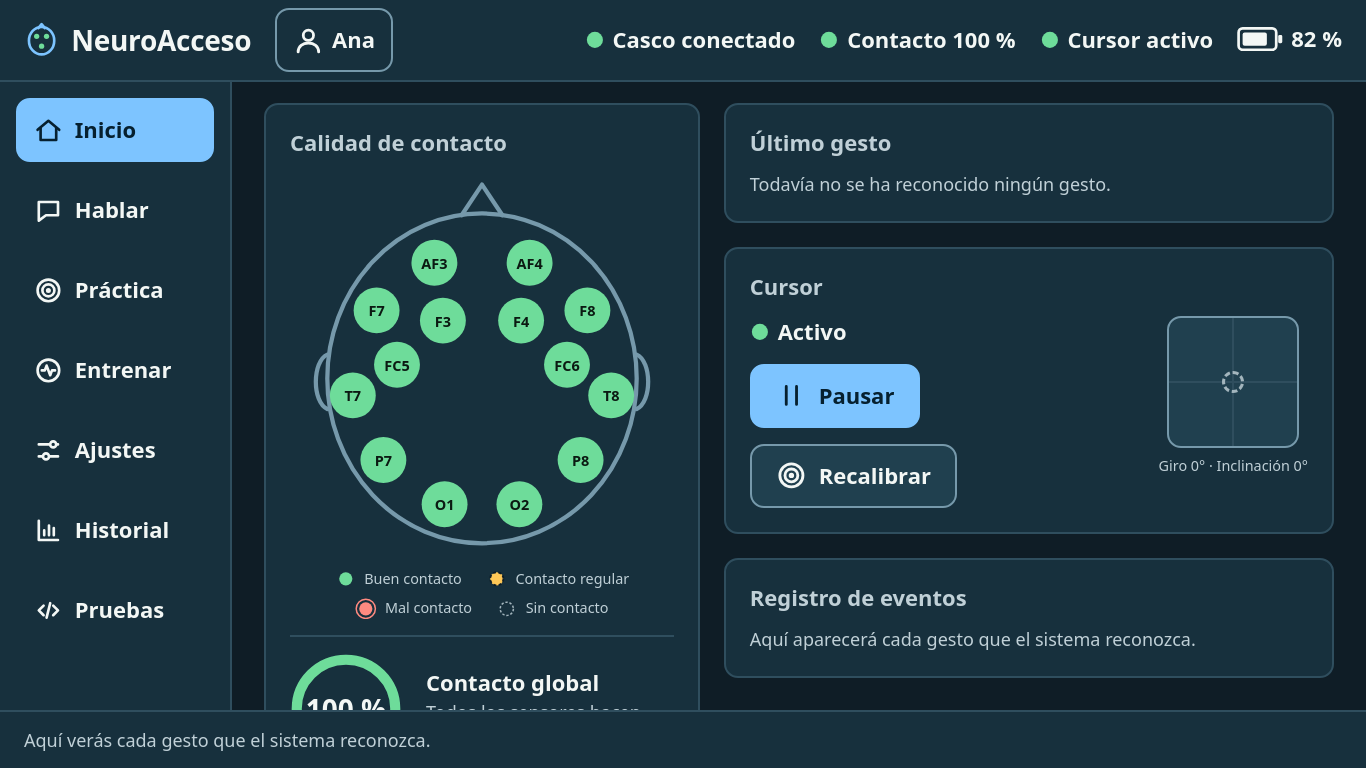
Test: cursor › Pausar pide el modo pausa y el botón pasa a Reanudar
(page scrolled)
Expected: the text "Activo" is shown, top-left (778, 316), bottom-right (846, 348)
Click the button "Pausar" at point(835, 396), box top-left (750, 364), bottom-right (920, 428)
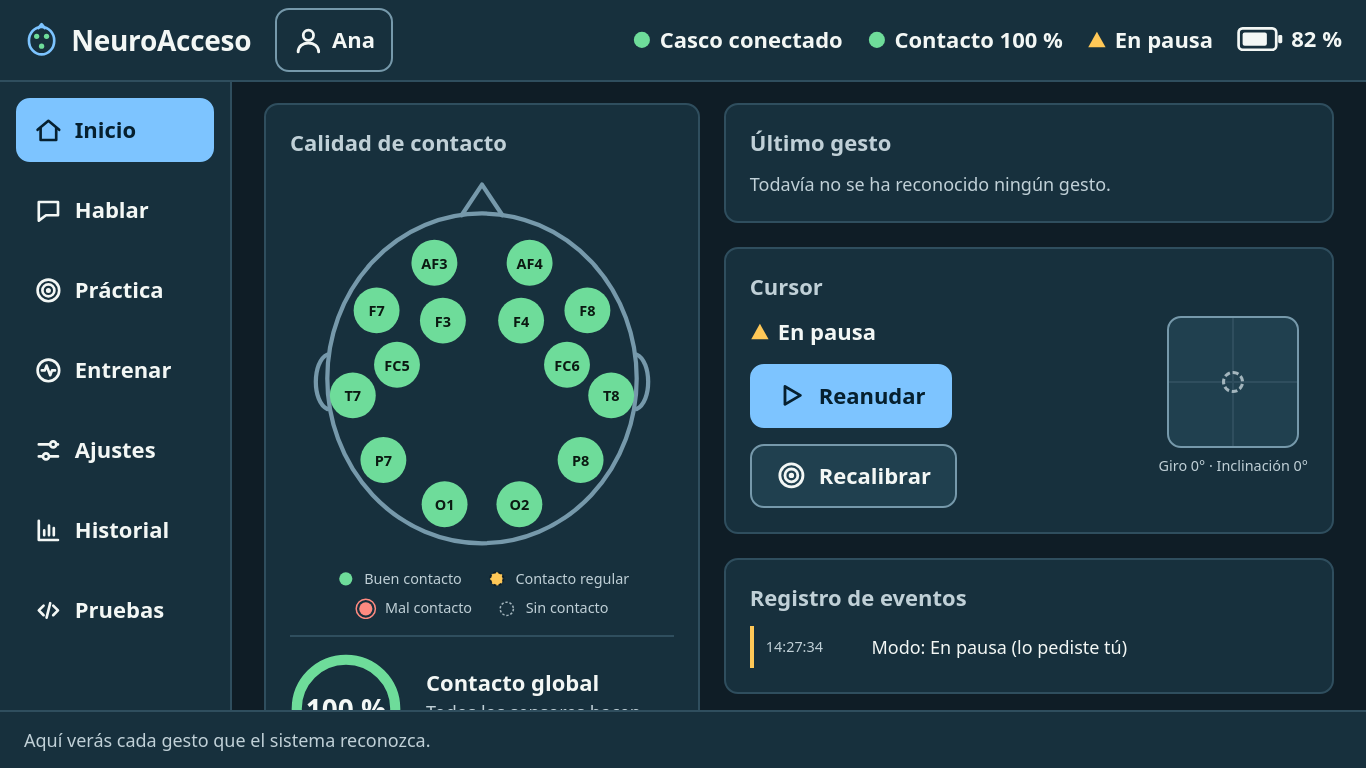
Now the text "En pausa" below "Cursor" is shown, box top-left (778, 316), bottom-right (876, 346)
Click the button "Reanudar" at point(851, 396), box top-left (750, 364), bottom-right (952, 428)
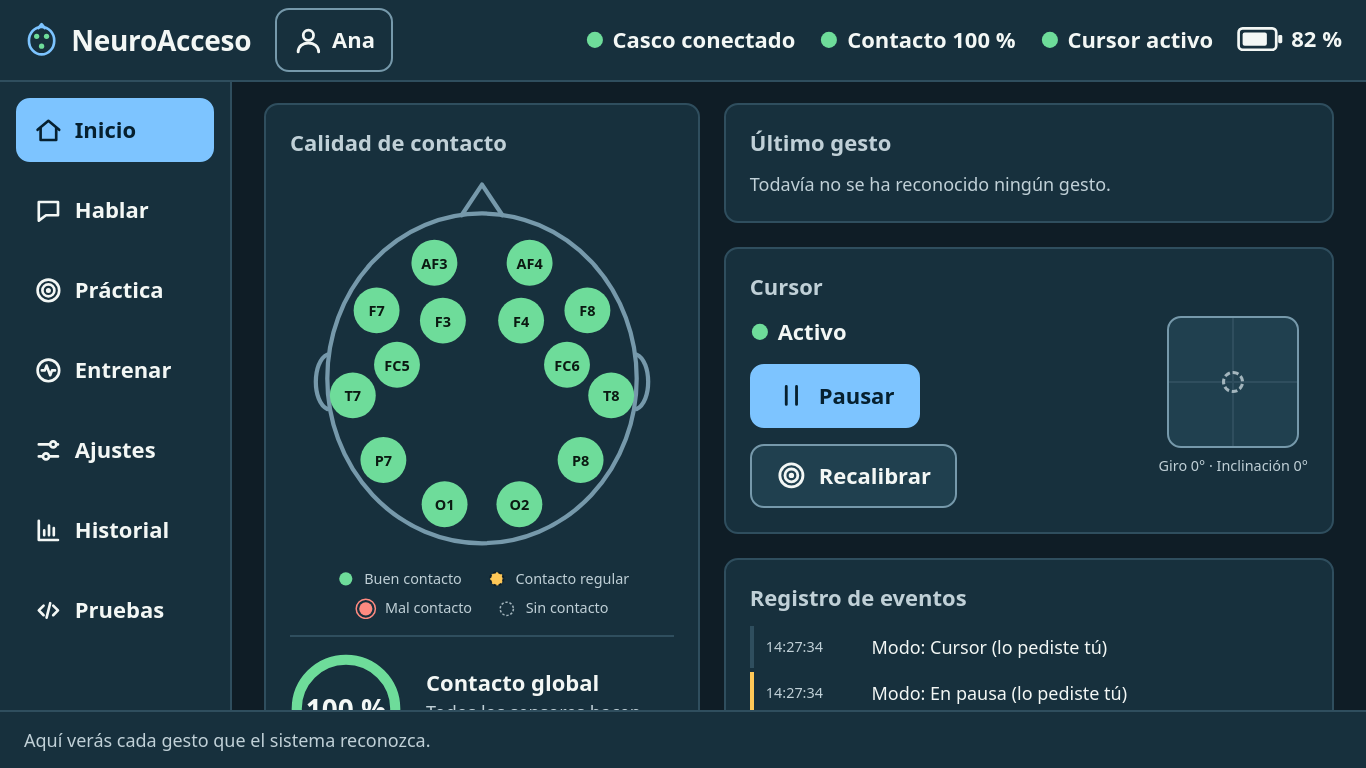
Now the text "Activo" is shown, box top-left (778, 316), bottom-right (846, 348)
